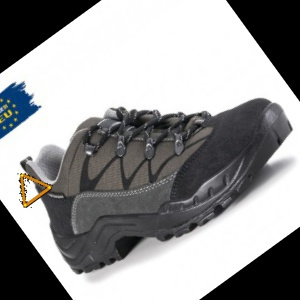triangle: (17, 169, 52, 210)
